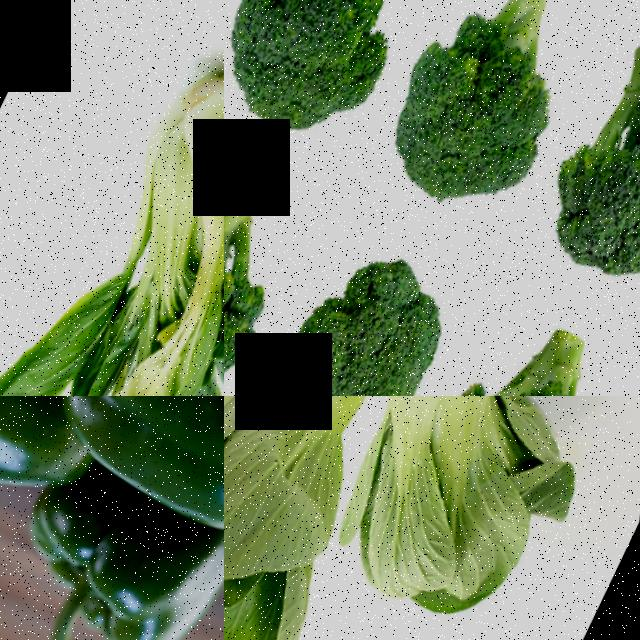bell pepper: (18, 478, 224, 640), (64, 396, 224, 538)
bok choy: (0, 28, 224, 396), (318, 396, 640, 640), (224, 396, 401, 640)
broccoli: (354, 0, 620, 252), (224, 198, 494, 396), (224, 0, 465, 181), (520, 0, 640, 320), (224, 104, 344, 396), (412, 258, 640, 396)
